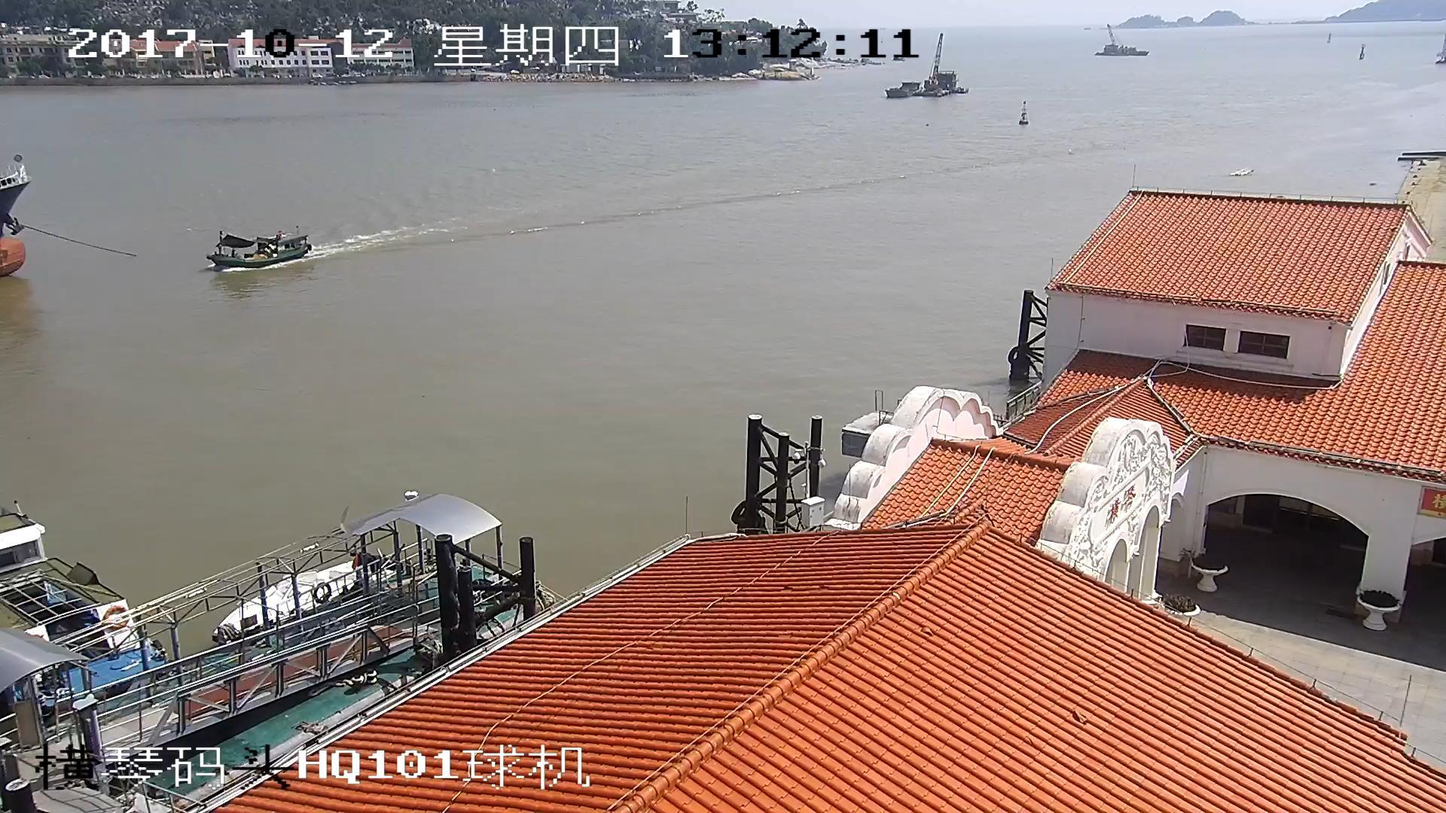fishing boat: (203, 224, 307, 266)
